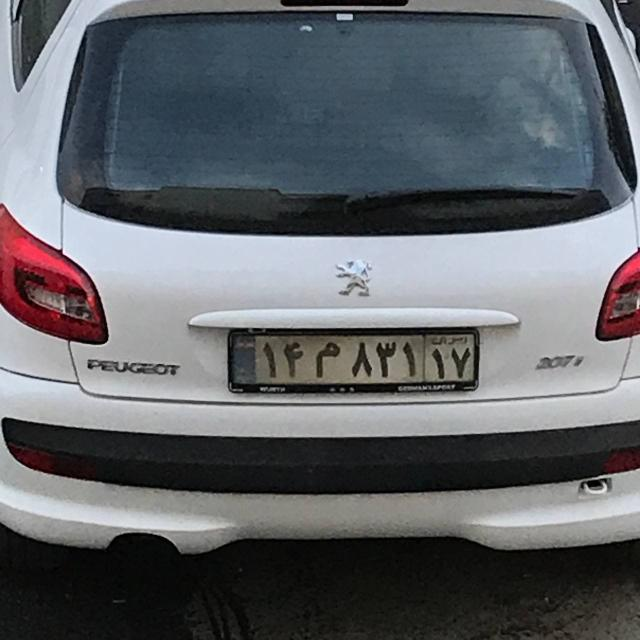Plates: (230, 333, 475, 384)
